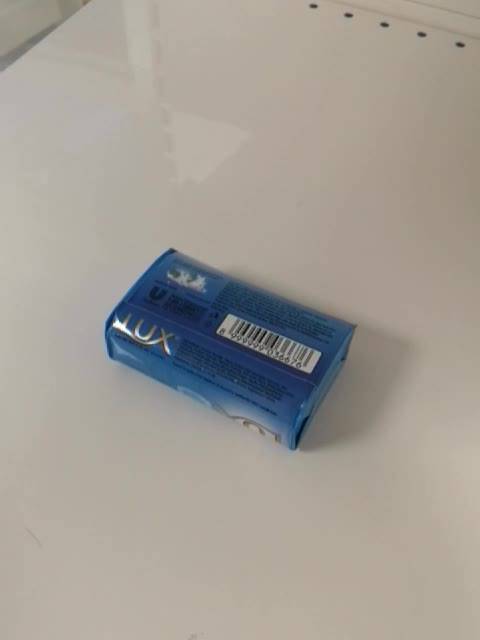soap: (102, 245, 357, 454)
